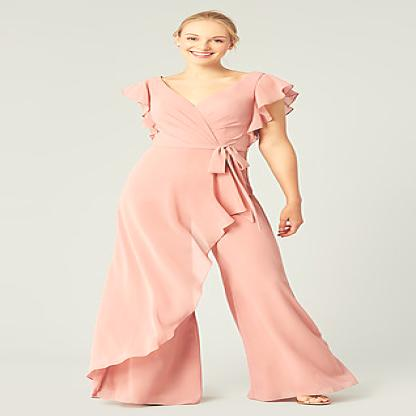dress: (92, 64, 353, 402)
